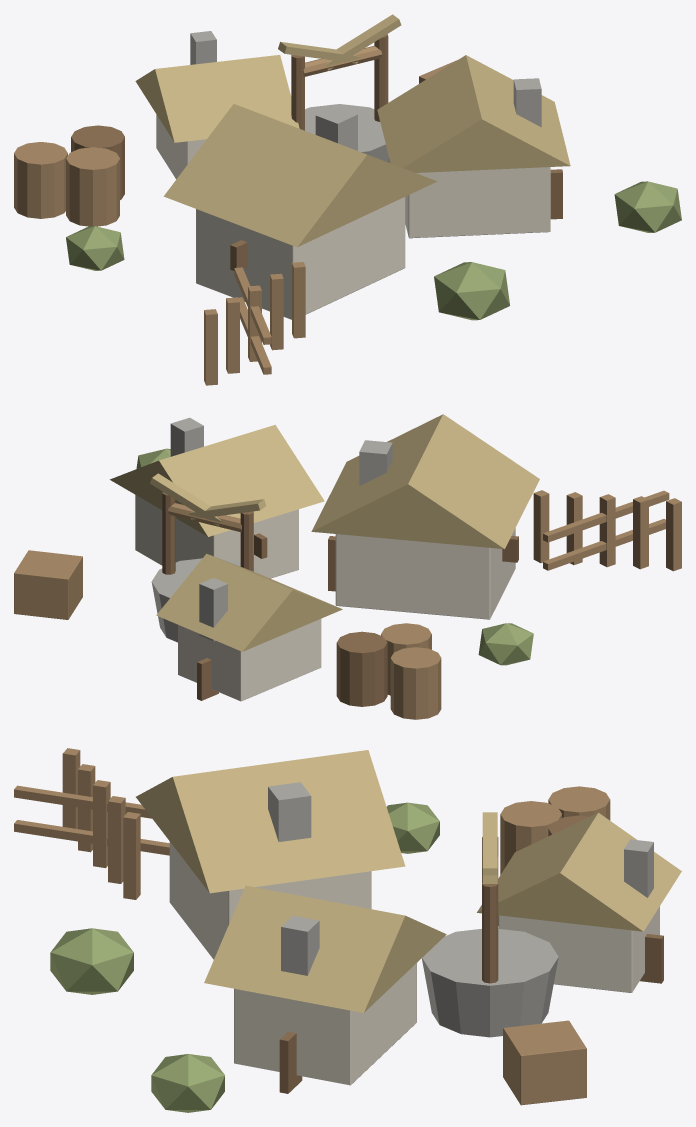
File: settlement.glb
3 renders of one model, top to bottom at view 1: azimuth 30°, elevation 25°; view 2: azimuth 150°, elevation 25°; view 3: azimuth 270°, elevation 25°, orthographic. The views are drawn at different scales.
Parts seen in each view (by area): view 1: roof_a, roof_b, h_a, h_b, roof_c, barrel1, barrel3, shrub2, shrub1, shrub0, well_base, barrel2 (+17 smaller); view 2: roof_a, h_a, roof_b, roof_c, h_c, h_b, scrate, barrel2, barrel3, shrub0, well_base, barrel1 (+16 smaller); view 3: roof_a, roof_b, roof_c, h_b, well_base, h_c, scrate, h_a, shrub2, shrub1, barrel1, chim_a (+15 smaller).
Part boxes in pixels (left/top/right/bottom): roof_a: left=163, top=104, right=437, bottom=247; roof_b: left=377, top=55, right=570, bottom=172; h_a: left=196, top=197, right=405, bottom=319; h_b: left=405, top=167, right=550, bottom=238; roof_c: left=135, top=55, right=299, bottom=142; barrel1: left=66, top=147, right=119, bottom=226; barrel3: left=14, top=142, right=67, bottom=218; shrub2: left=434, top=262, right=509, bottom=320; shrub1: left=614, top=181, right=681, bottom=232; shrub0: left=66, top=226, right=124, bottom=270; well_base: left=305, top=104, right=389, bottom=162; barrel2: left=71, top=125, right=124, bottom=199; roof_a: left=311, top=414, right=539, bottom=549; h_a: left=335, top=528, right=515, bottom=619; roof_b: left=110, top=424, right=324, bottom=536; roof_c: left=156, top=553, right=342, bottom=651; h_c: left=178, top=619, right=321, bottom=701; h_b: left=135, top=495, right=298, bottom=578; scrate: left=14, top=550, right=82, bottom=619; barrel2: left=336, top=631, right=387, bottom=706; barrel3: left=390, top=647, right=441, bottom=719; shrub0: left=478, top=623, right=533, bottom=665; well_base: left=151, top=558, right=259, bottom=642; barrel1: left=381, top=623, right=431, bottom=695; roof_a: left=136, top=750, right=405, bottom=893; roof_b: left=204, top=885, right=446, bottom=1012; roof_c: left=477, top=812, right=681, bottom=931; h_b: left=234, top=963, right=416, bottom=1085; well_base: left=421, top=929, right=558, bottom=1037; h_c: left=498, top=906, right=659, bottom=992; scrate: left=503, top=1020, right=586, bottom=1105; h_a: left=169, top=841, right=371, bottom=959; shrub2: left=50, top=928, right=133, bottom=994; shrub1: left=151, top=1054, right=224, bottom=1112; barrel1: left=500, top=801, right=561, bottom=874; chim_a: left=268, top=782, right=311, bottom=841.
Size of the model in its own units: 1.01 by 0.29 by 0.9736.
